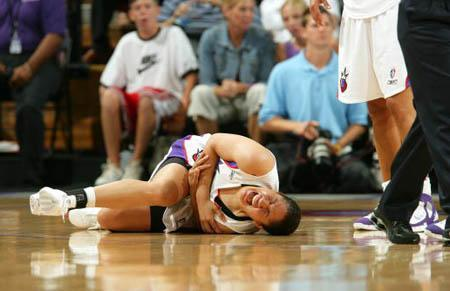Fall-Detected: (30, 118, 307, 240)
